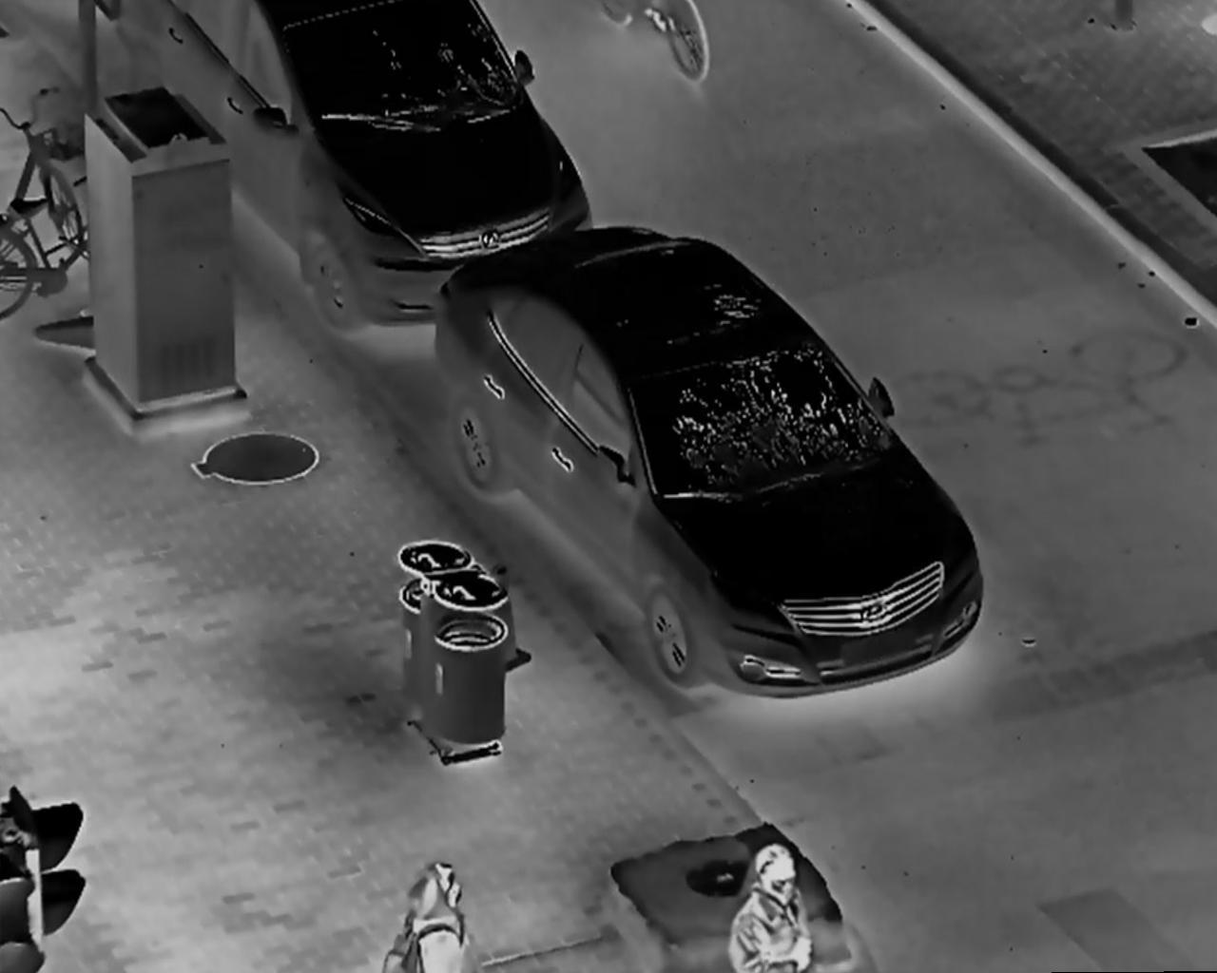person: (724, 845, 825, 973), (375, 860, 476, 973)
